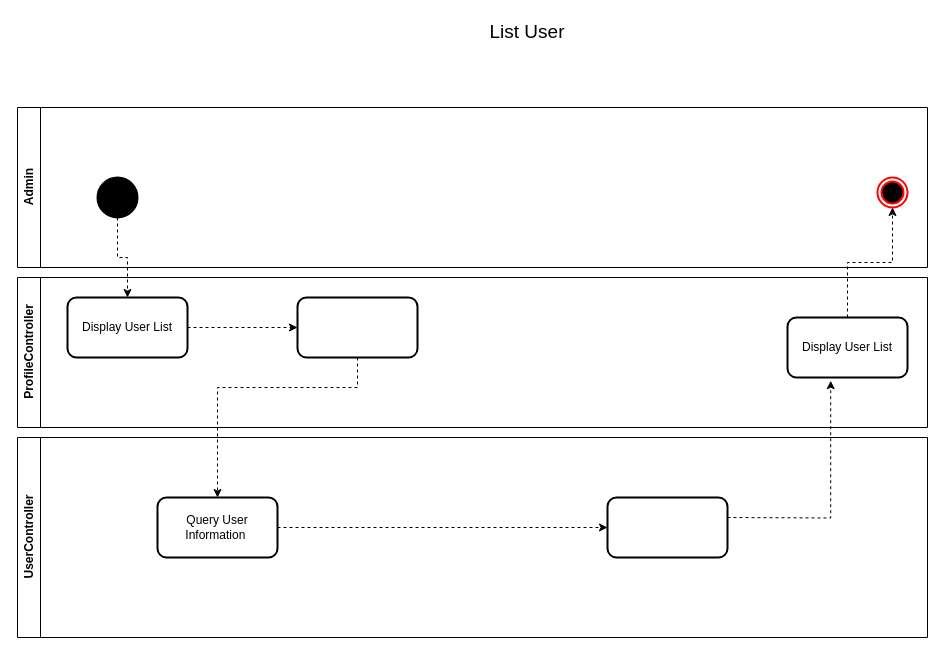
The diagram is 945 pixels wide and 655 high, and some of its shapes have lost their labels. The shapes that lost their labels are listed below. From the top down, each one's centre as x and y in pixels, then its label:
At (x=117, y=197): "Choose User page".
At (x=357, y=327): "Send Request".
At (x=667, y=527): "Send back User List".
